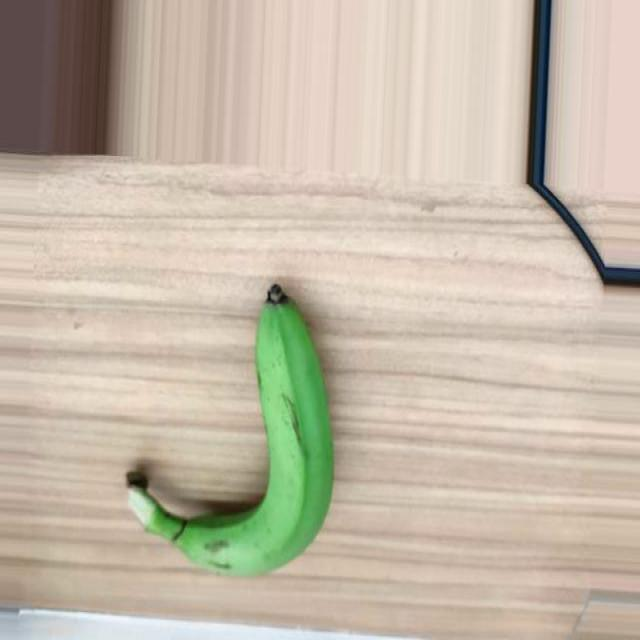Unripe: (130, 282, 336, 578)
